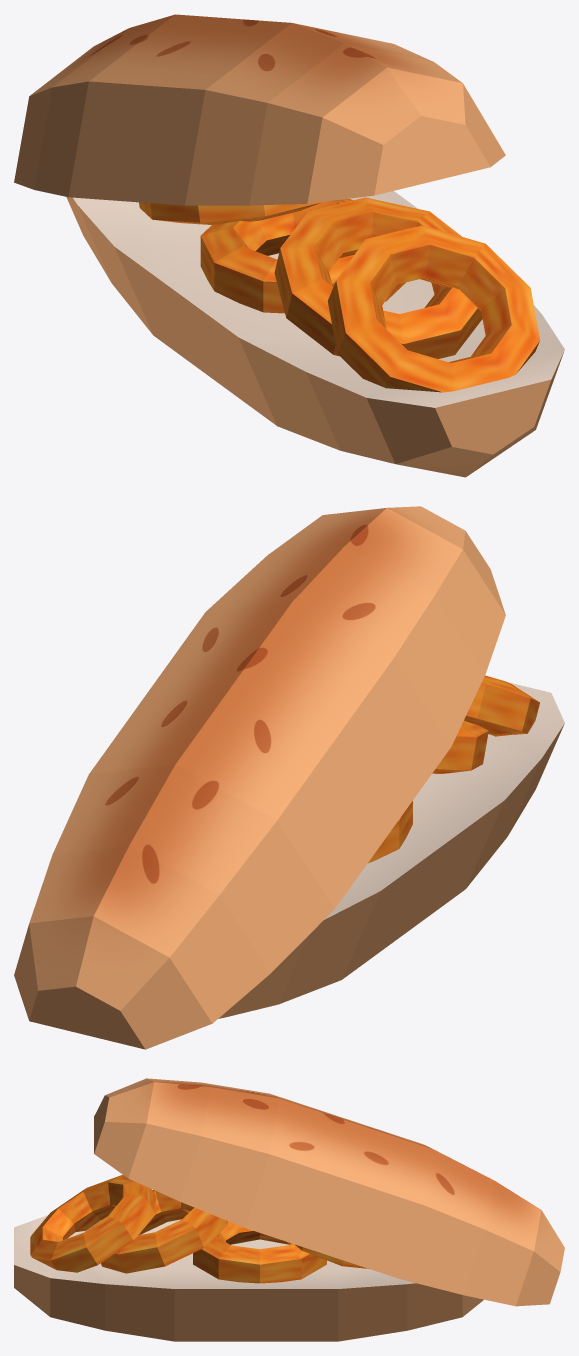
File: Bocata Calamar.fbx
The picture shows the model from 3 angles, top to bottom: view 1: azimuth 30°, elevation 25°; view 2: azimuth 150°, elevation 25°; view 3: azimuth 270°, elevation 25°; orthographic projection. The views are drawn at different scales.
Visible parts, largest first — view 1: Pan_arriba, Pan_bajo, Calamares; view 2: Pan_arriba, Pan_bajo, Calamares; view 3: Pan_arriba, Pan_bajo, Calamares.
Boxes of the visible parts, left/top/right/bottom form: Pan_arriba: left=14, top=14, right=505, bottom=205; Pan_bajo: left=66, top=191, right=564, bottom=477; Calamares: left=139, top=197, right=539, bottom=392; Pan_arriba: left=14, top=506, right=505, bottom=1049; Pan_bajo: left=218, top=682, right=564, bottom=1018; Calamares: left=368, top=675, right=539, bottom=863; Pan_arriba: left=94, top=1078, right=564, bottom=1306; Pan_bajo: left=14, top=1215, right=483, bottom=1341; Calamares: left=30, top=1175, right=368, bottom=1283.
Bounding box in the file's own units: 4 × 5.56 × 10.85.
2 materials, 2 textured.
